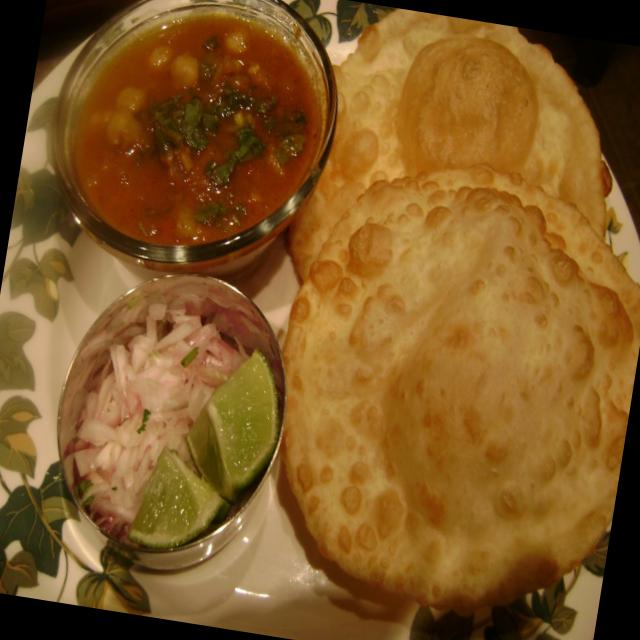Bhatura: (234, 0, 640, 627)
